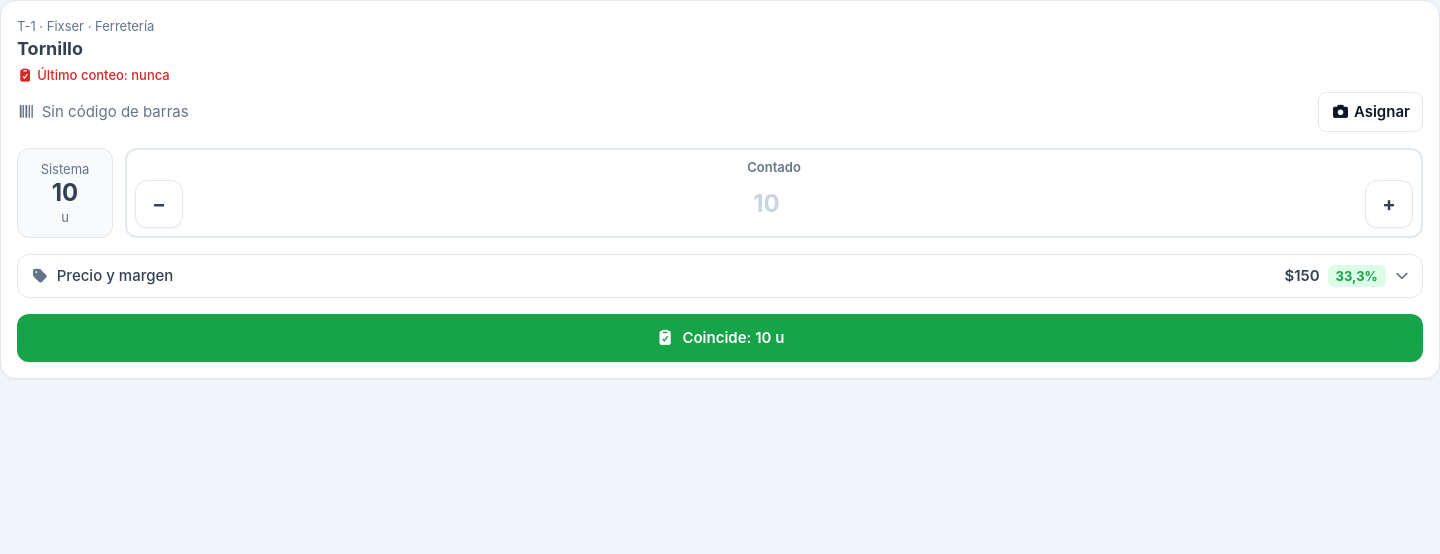
Test: components/ProductoCard › sincronización costo ↔ venta (ganancia como markup, igual que amproducto.php) › al cambiar la venta, el costo no se toca y la nueva ganancia se usa en el próximo cambio de costo
This screenshot has width=1440, height=554.
Click the button "Precio y margen $150 33,3%".
click(115, 276)  # box [18,255,1422,297]
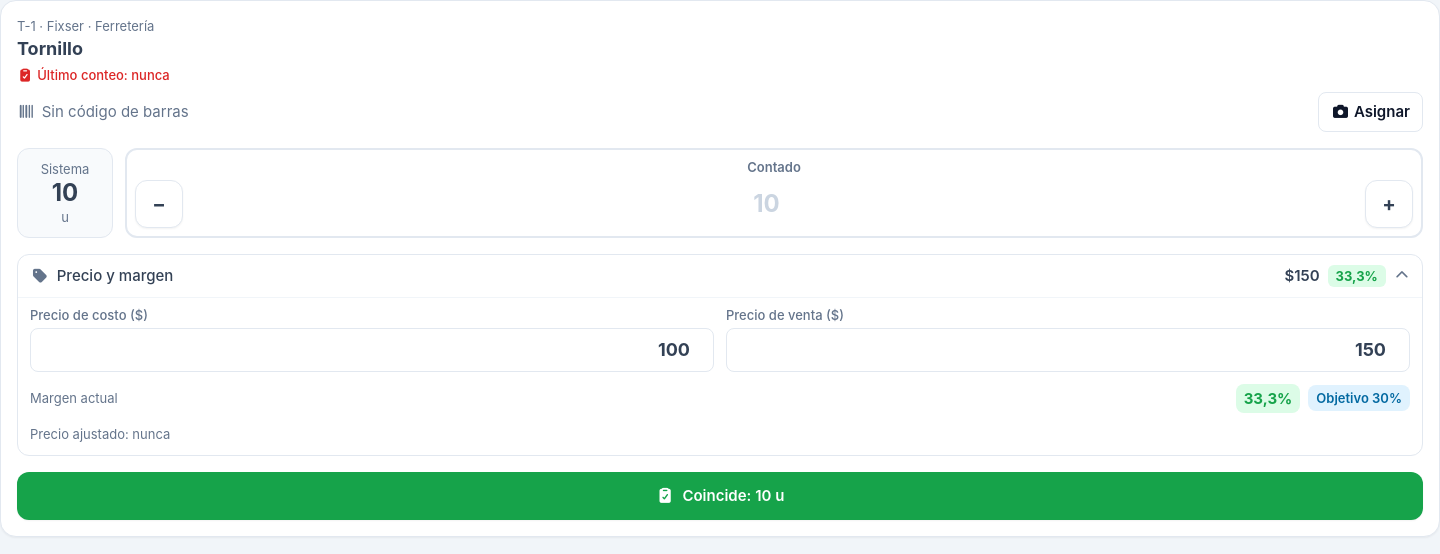
Replace the text in the number field named "Precio de venta" with "200" at (1068, 350), box [726,328,1410,372]
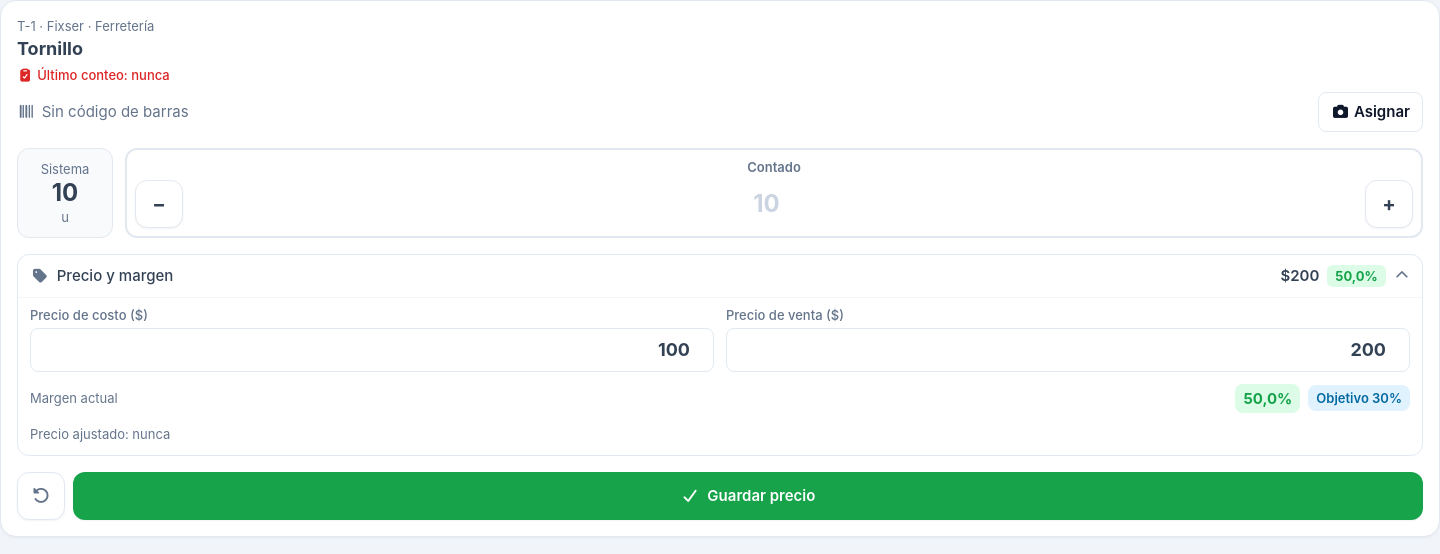
Expected: the number field named "Precio de costo" holds "100"
Replace the text in the number field named "Precio de costo" with "50" at (372, 350), box [30,328,714,372]
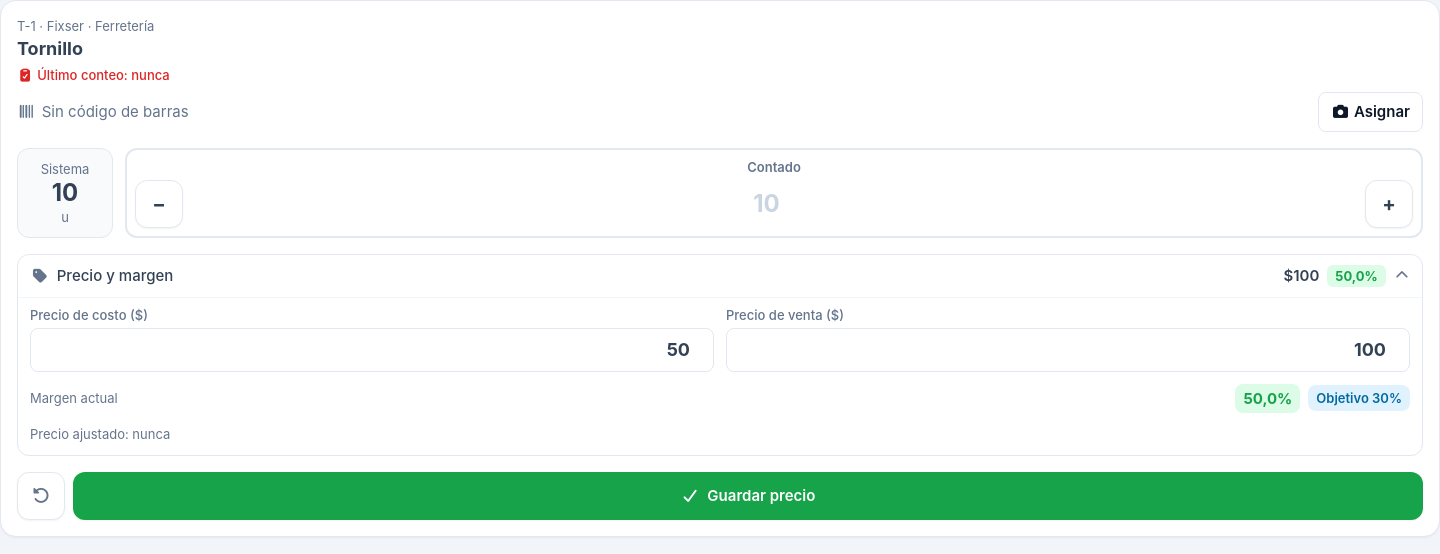
Expected: the number field named "Precio de venta" holds "100", [726,328,1410,372]
